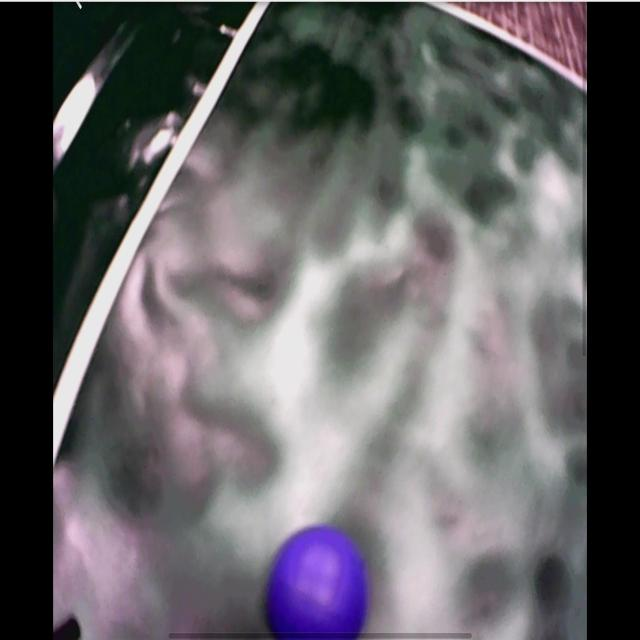ball: (265, 528, 368, 640)
